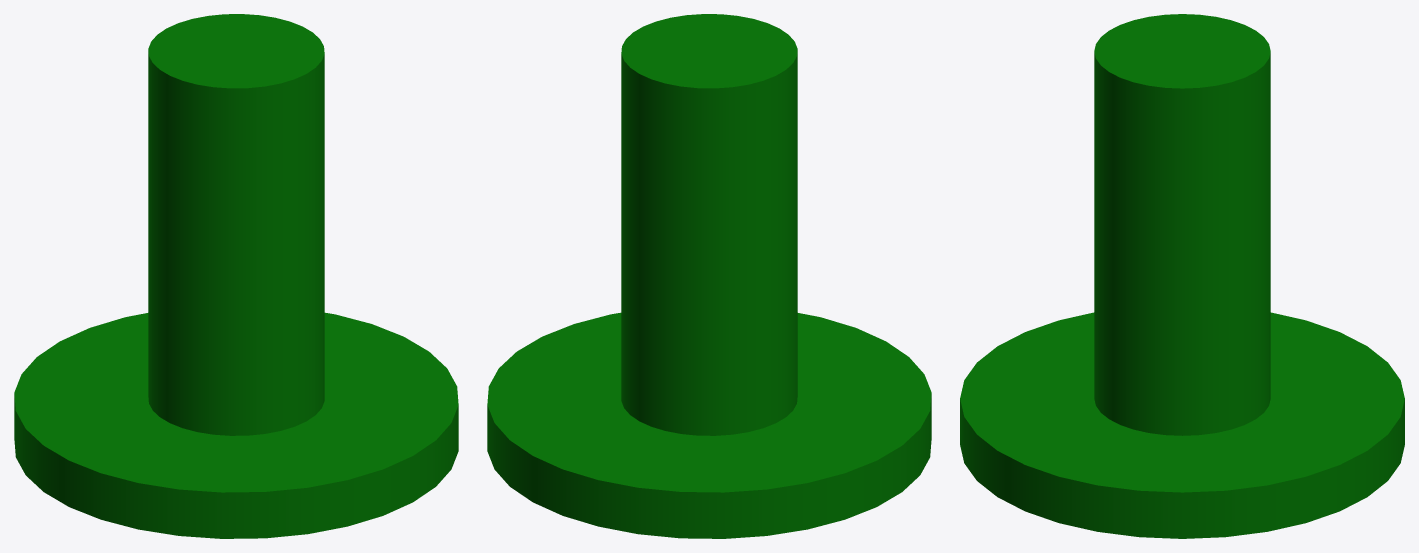
Rendered from Image-1710907747330-2281197152896_DRAIN_200.fbx.
3 views of the same model, side by side, from view 1: azimuth 30°, elevation 25°; view 2: azimuth 150°, elevation 25°; view 3: azimuth 270°, elevation 25° (orthographic).
Visible parts, largest first — view 1: /DRAIN-DB-200-001_N1; view 2: /DRAIN-DB-200-001_N1; view 3: /DRAIN-DB-200-001_N1.
Part boxes in pixels (bbox=[...]): /DRAIN-DB-200-001_N1: bbox=[14, 14, 458, 538]; /DRAIN-DB-200-001_N1: bbox=[487, 14, 931, 538]; /DRAIN-DB-200-001_N1: bbox=[960, 14, 1404, 538].
Bounding box in the file's own units: 0.152 × 0.152 × 0.15.
